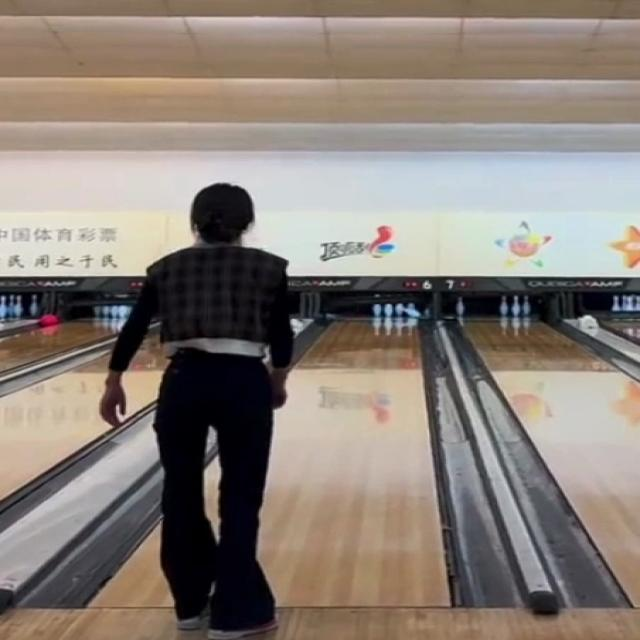alley: (259, 319, 449, 605), (93, 532, 159, 604)
bottle: (372, 302, 422, 318)
